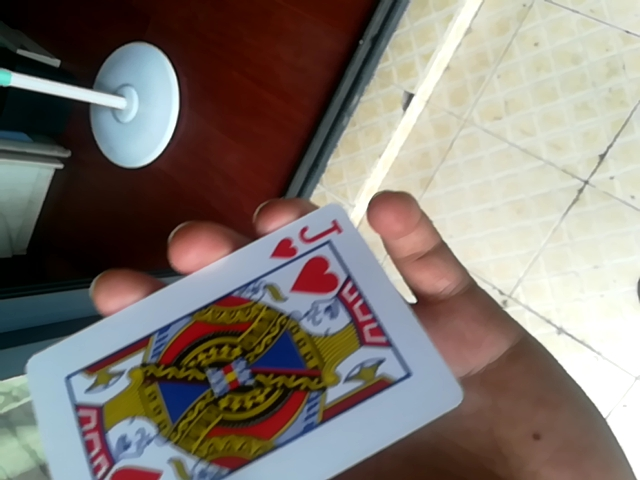hx j: (15, 202, 454, 478)
